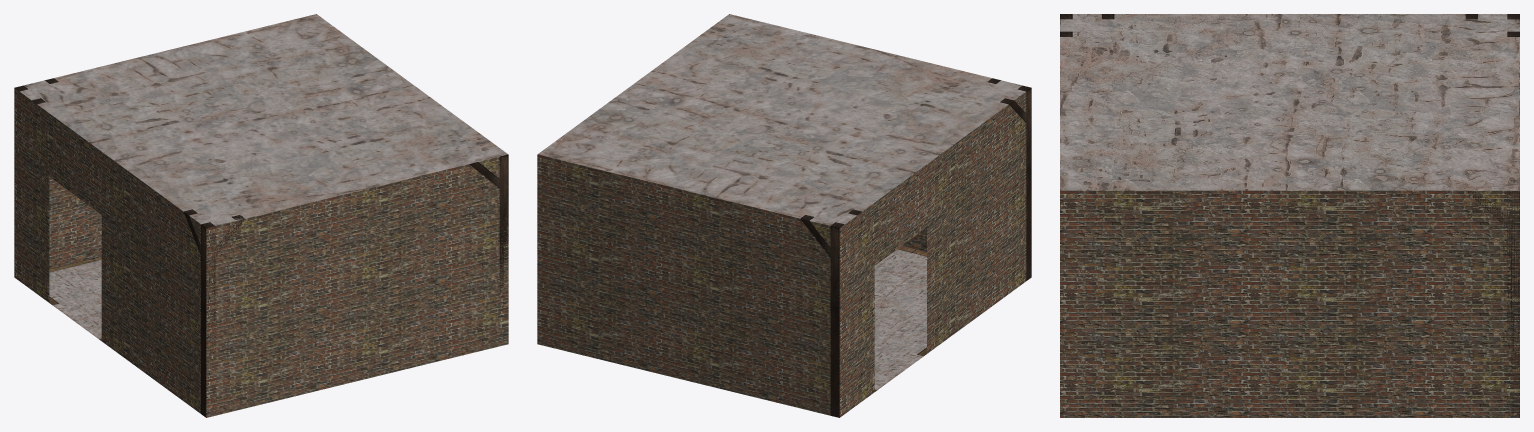
The model's file is Workroom.FBX.
3 renders of one model, left to right at view 1: azimuth 30°, elevation 25°; view 2: azimuth 150°, elevation 25°; view 3: azimuth 270°, elevation 25°, orthographic. The views are drawn at different scales.
Visible parts, largest first — view 1: WorkroomWall01, WorkroomCeiling, WorkroomWall02, WorkroomWall03, WorkroomGround, WoodenPillar002, WoodenPillar003; view 2: WorkroomCeiling, WorkroomWall03, WorkroomWall02, WorkroomGround, WoodenPillar01, WoodenPillar002; view 3: WorkroomWall04, WorkroomCeiling, WoodenPillar004.
Part boxes in pixels (left/top/right/bottom): WorkroomWall01: left=206, top=156, right=508, bottom=417; WorkroomCeiling: left=20, top=14, right=508, bottom=225; WorkroomWall02: left=14, top=88, right=200, bottom=413; WorkroomWall03: left=49, top=177, right=101, bottom=268; WorkroomGround: left=49, top=256, right=101, bottom=340; WoodenPillar002: left=184, top=209, right=244, bottom=417; WoodenPillar003: left=469, top=154, right=508, bottom=299; WorkroomCeiling: left=537, top=14, right=1025, bottom=225; WorkroomWall03: left=537, top=154, right=831, bottom=415; WorkroomWall02: left=839, top=92, right=1026, bottom=417; WorkroomGround: left=874, top=246, right=926, bottom=391; WoodenPillar01: left=800, top=209, right=861, bottom=417; WoodenPillar002: left=987, top=78, right=1031, bottom=280; WorkroomWall04: left=1060, top=190, right=1519, bottom=417; WorkroomCeiling: left=1060, top=14, right=1519, bottom=190; WoodenPillar004: left=1468, top=191, right=1519, bottom=417.
Bounding box in the file's own units: 100 × 110 × 60.
